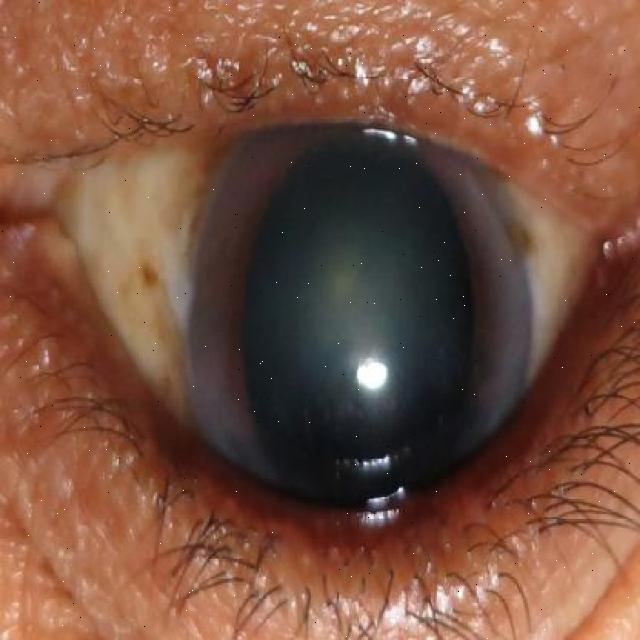Cataract: (186, 80, 532, 567)
